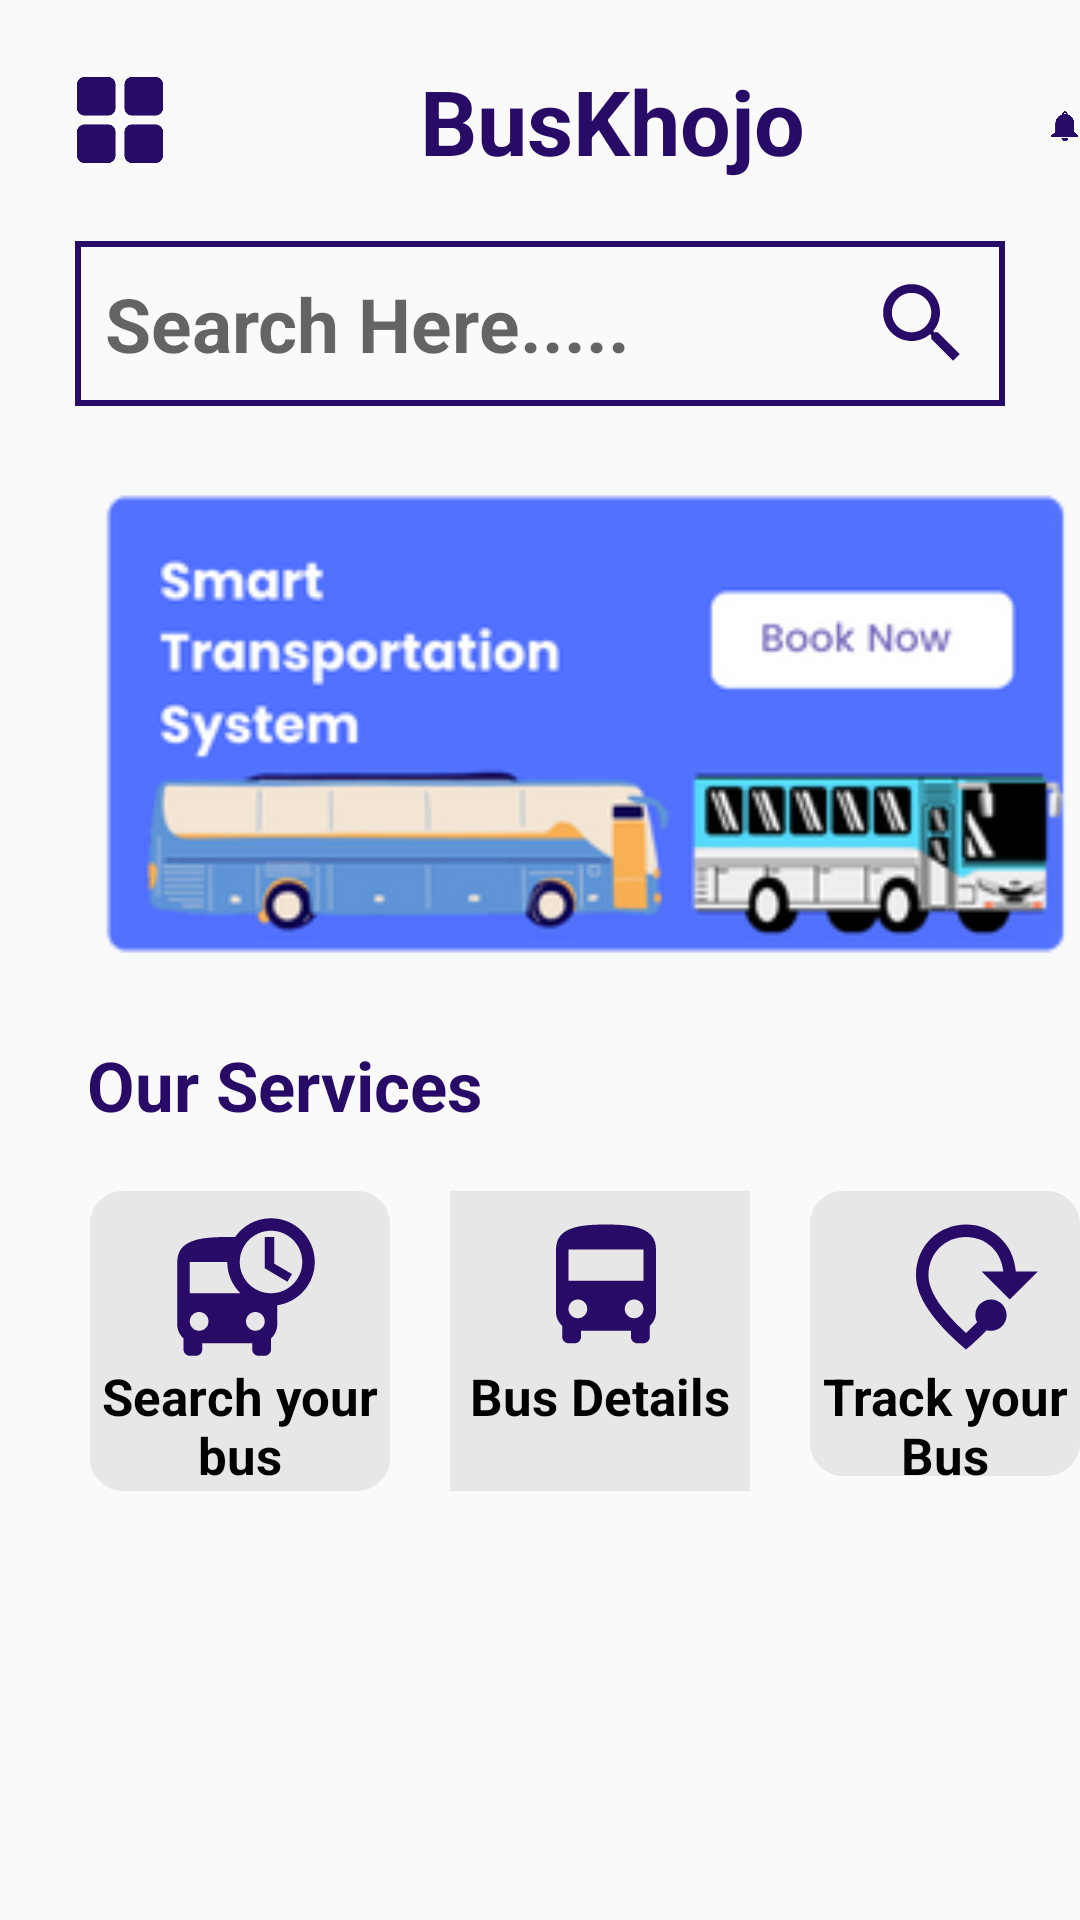

Where icons sit on this 1080w x 1920h app screen, as (x1, y1, x2, y2):
bell: (1051, 111, 1078, 141)
departure board: (177, 1218, 315, 1356)
directions bus: (556, 1224, 656, 1344)
menu: (77, 77, 163, 163)
